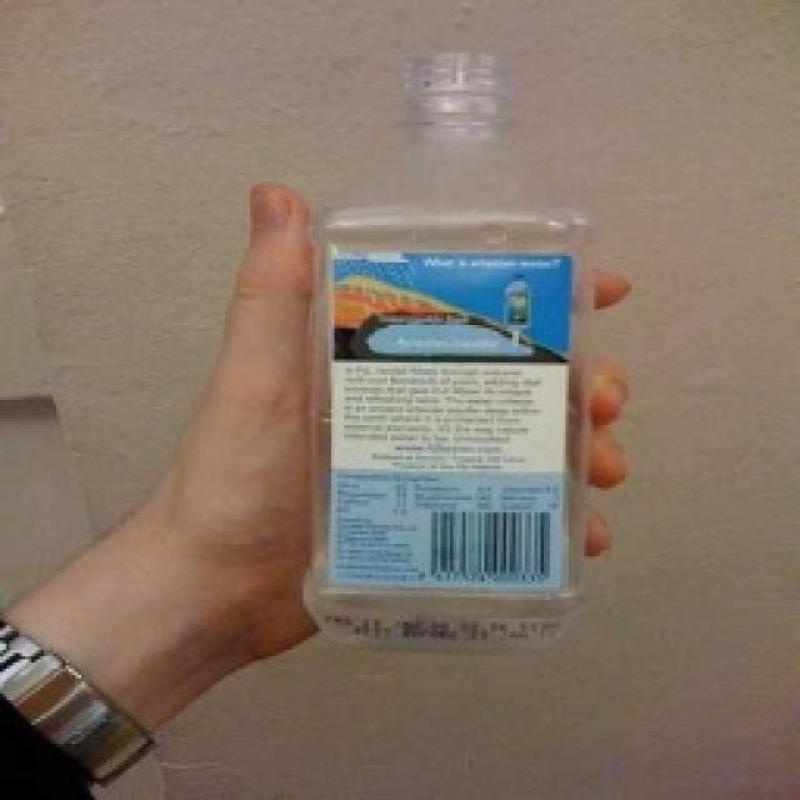botella: (307, 46, 592, 656)
